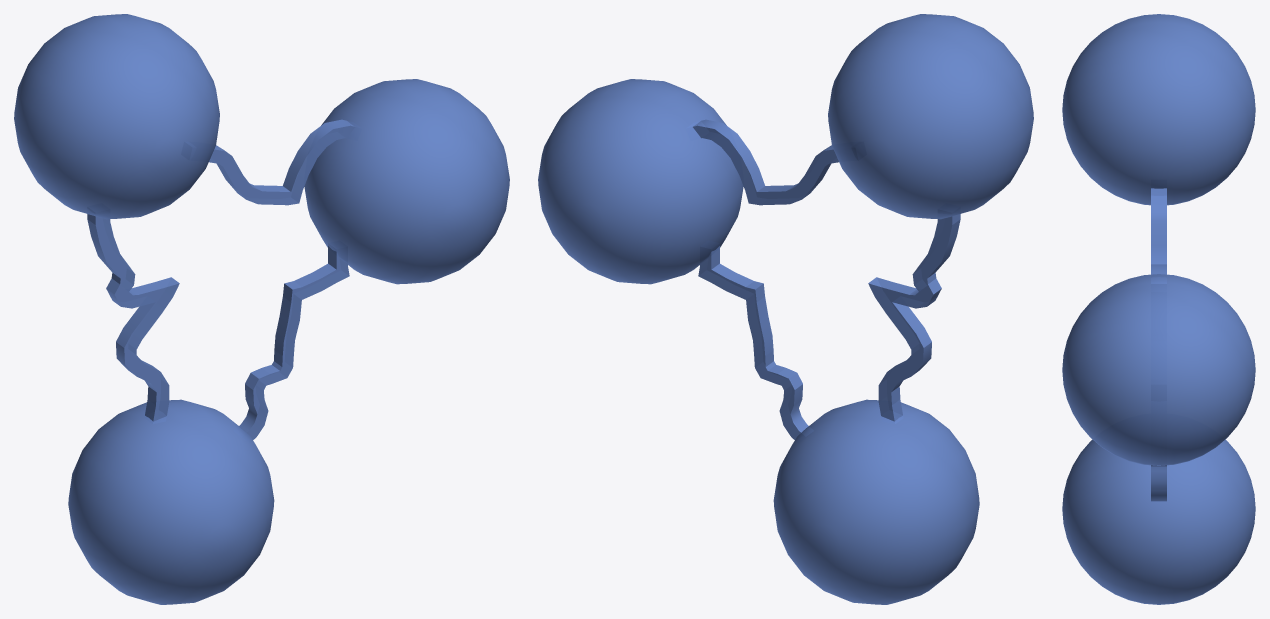
Rendered from Powerup_Drezz.fbx.
The picture shows the model from 3 angles, left to right: view 1: azimuth 30°, elevation 25°; view 2: azimuth 150°, elevation 25°; view 3: azimuth 270°, elevation 25°; orthographic projection. The views are drawn at different scales.
Parts seen in each view (by area): view 1: Model_Powerup_Drezz; view 2: Model_Powerup_Drezz; view 3: Model_Powerup_Drezz.
Boxes of the visible parts, x1=… form: Model_Powerup_Drezz: x1=14, y1=14, x2=509, y2=604; Model_Powerup_Drezz: x1=538, y1=14, x2=1033, y2=604; Model_Powerup_Drezz: x1=1062, y1=14, x2=1255, y2=604.
Bounding box in the file's own units: 4.28 × 5.12 × 1.63.
